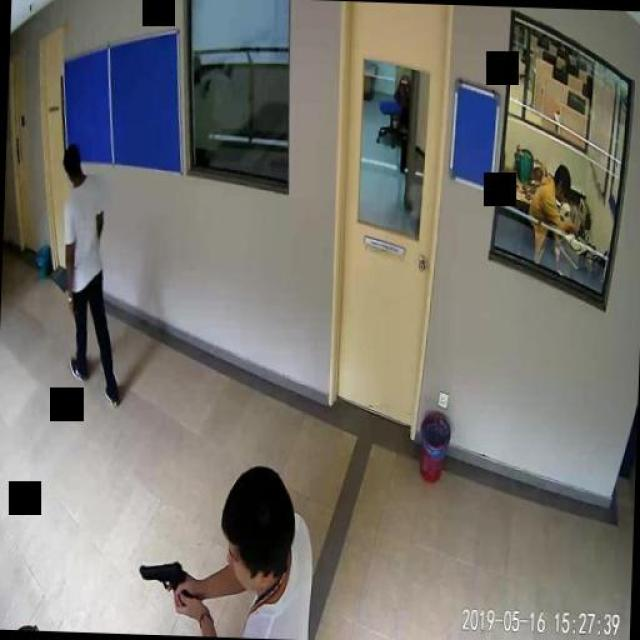gun: (136, 556, 186, 602)
